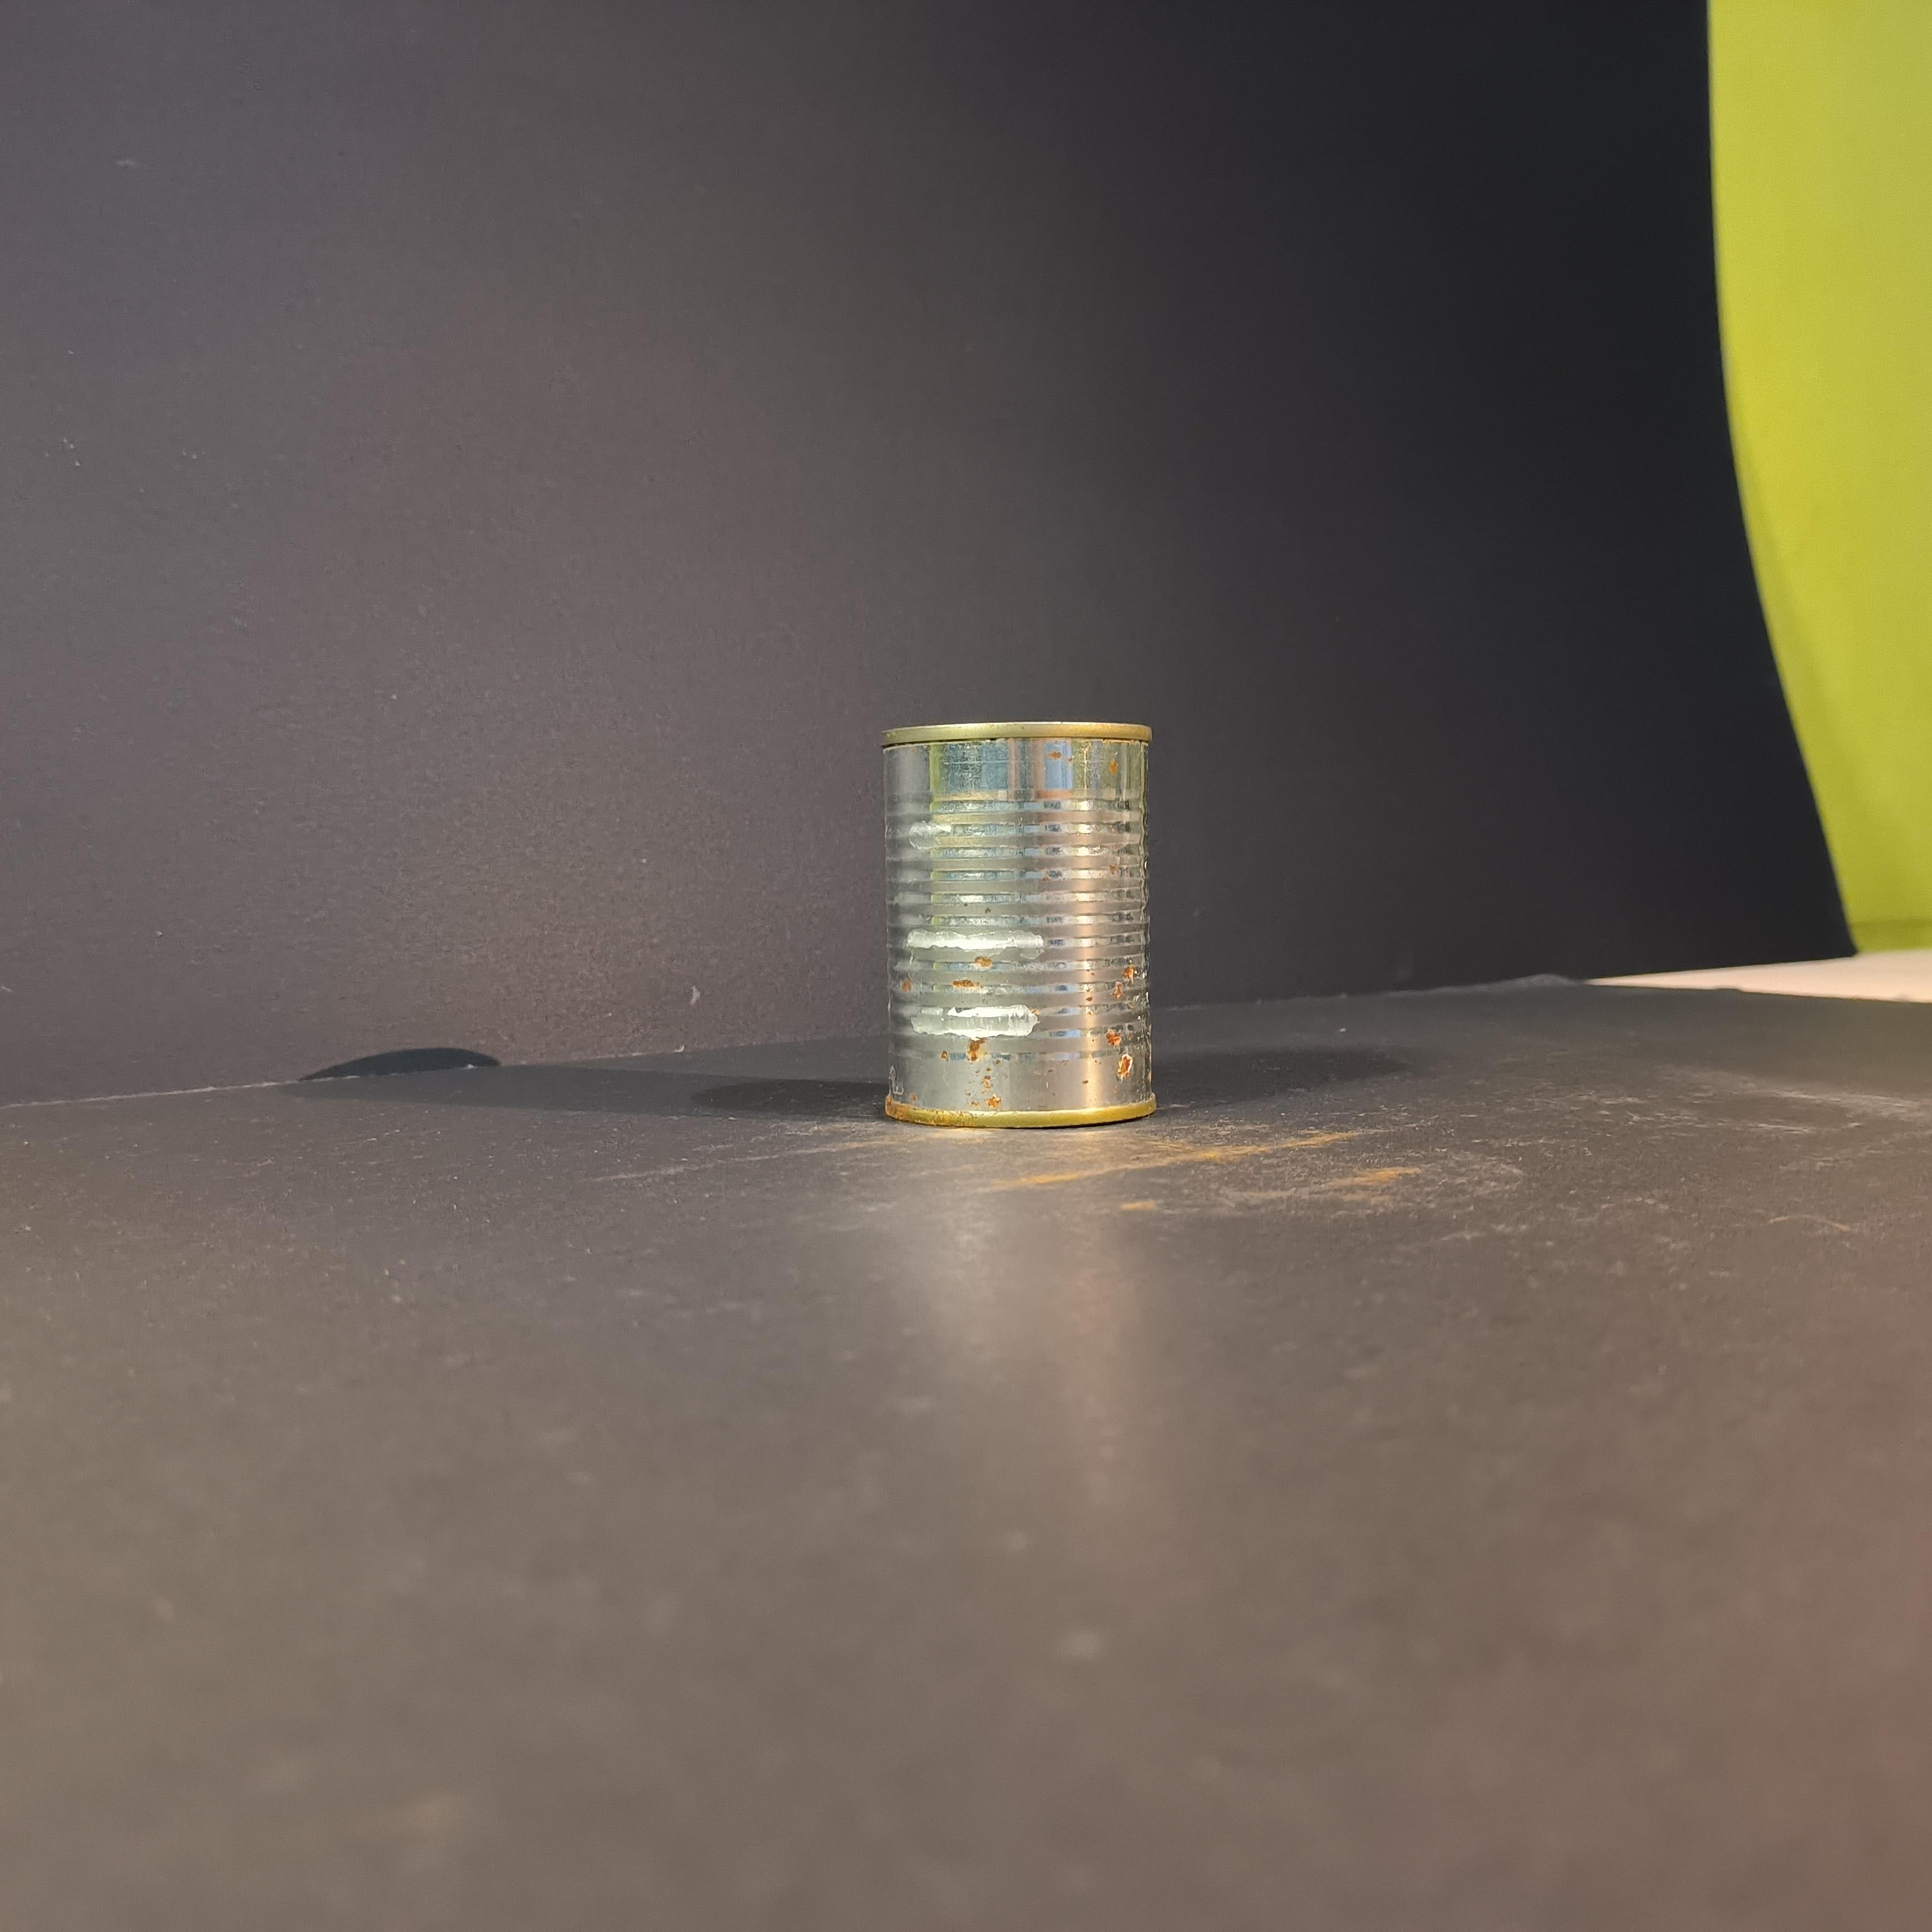Rusted: (856, 701, 1168, 1143)
